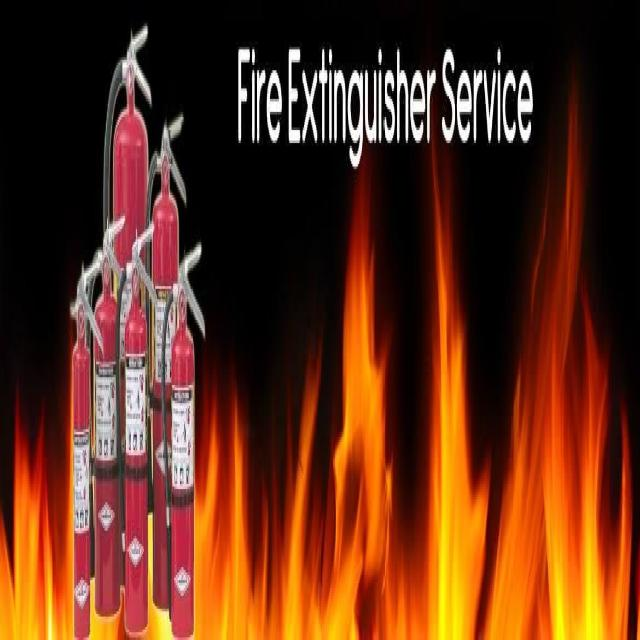fire_extinguisher: (99, 17, 155, 587), (142, 101, 191, 614), (158, 221, 206, 638), (83, 192, 129, 622), (115, 204, 159, 636), (67, 242, 104, 637)
